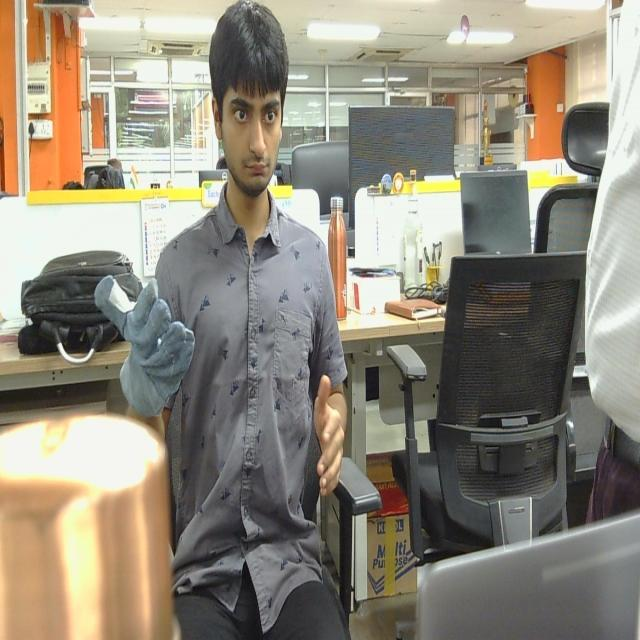Gloves-Detection: (90, 268, 200, 418)
